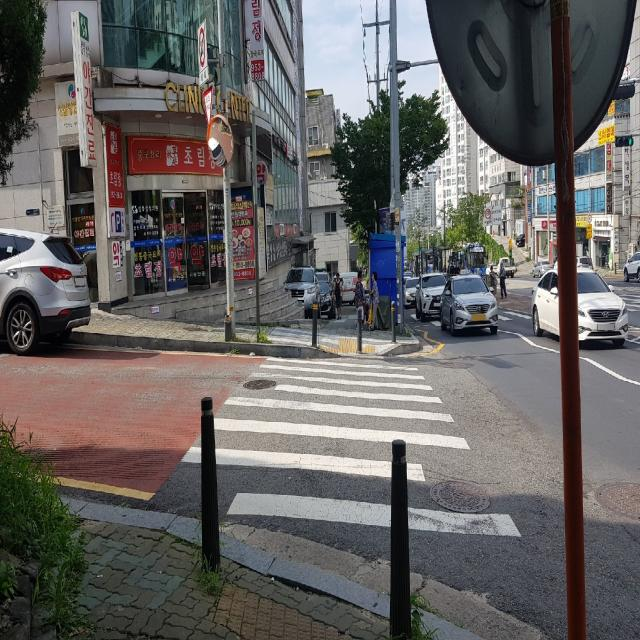횡단보도: (178, 350, 525, 545)
